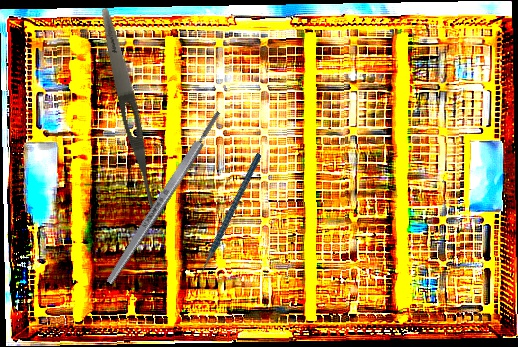Chopper: (161, 152, 300, 291)
Dressing Forceps: (95, 6, 167, 225)
Scalpel Handle: (103, 109, 225, 286)
